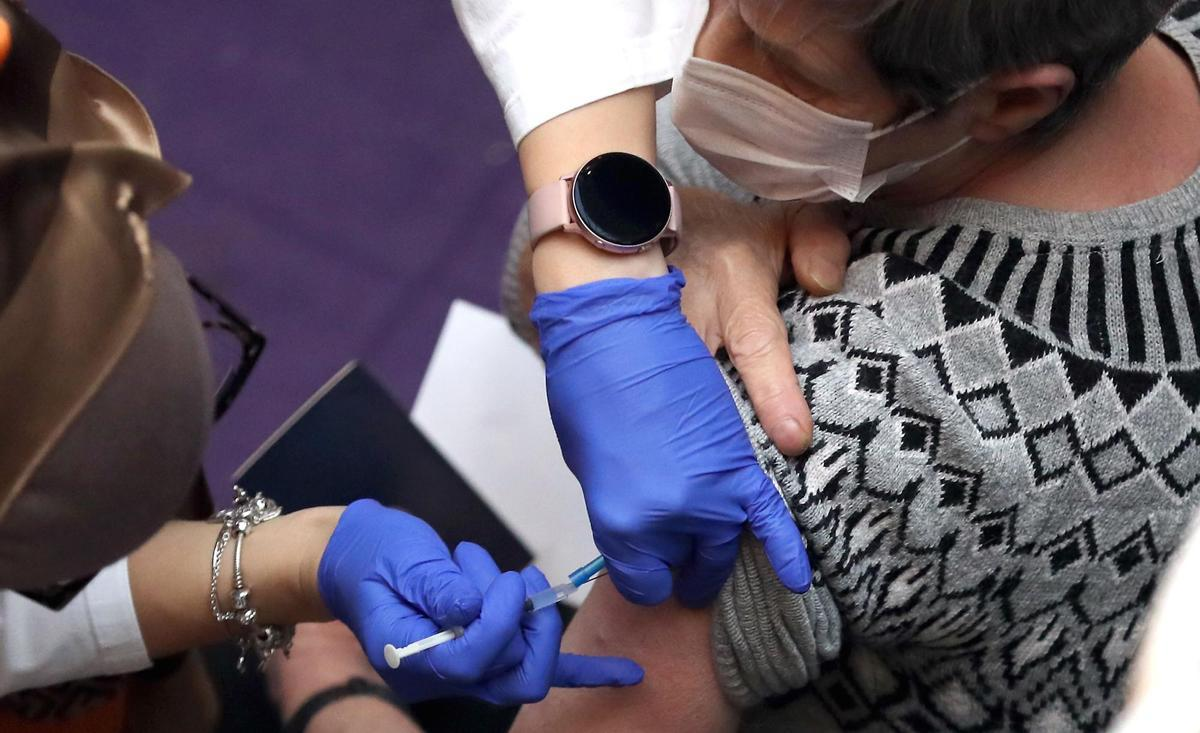glove: (532, 296, 824, 608), (310, 498, 648, 710)
